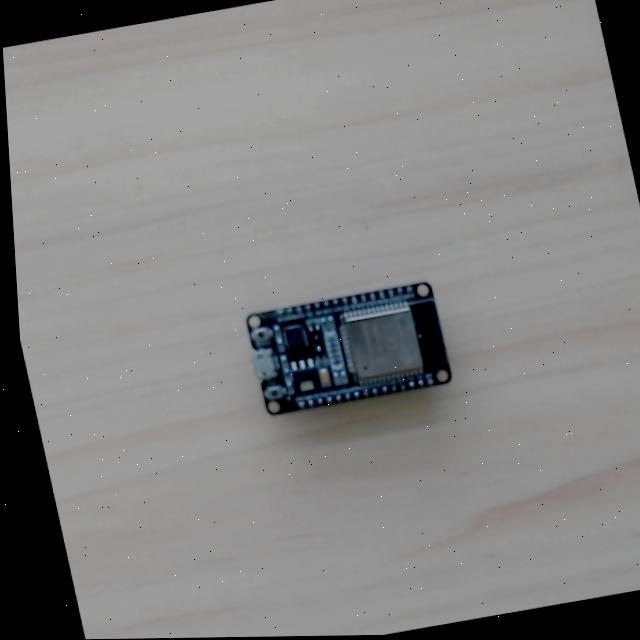ESP32-DevKit: (244, 279, 451, 417)
